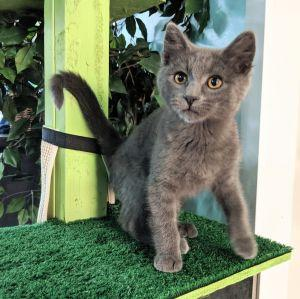rblue: (150, 17, 264, 131)
